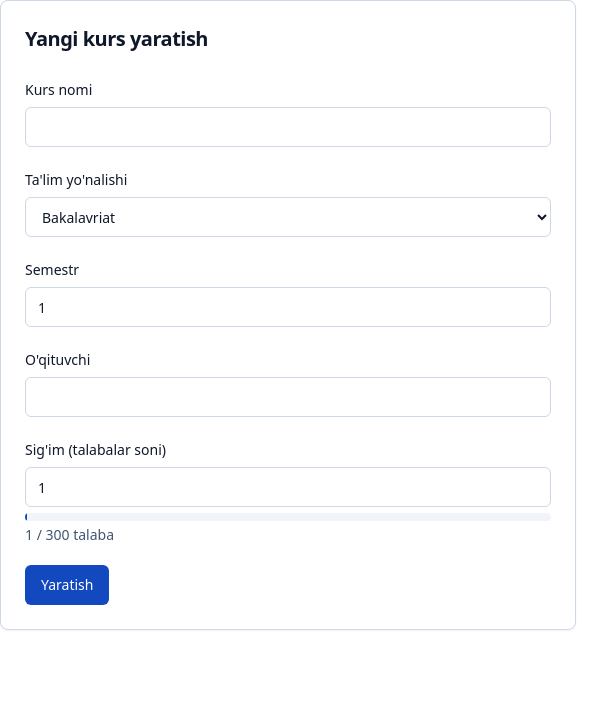
Test: CourseCreateForm › blocks submit and shows the 559 clause-20 link when BACHELOR capacity > 300 (Req 11.6)
In the field labelled "Kurs nomi": (288, 127) [25,107,551,147], type "Matematika"
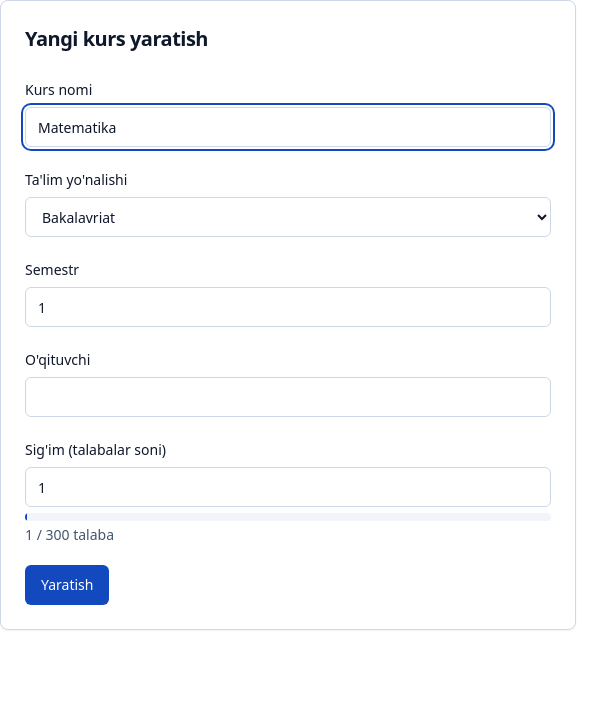
In the field labelled "O'qituvchi": (288, 397) [25,377,551,417], type "Aliyev"
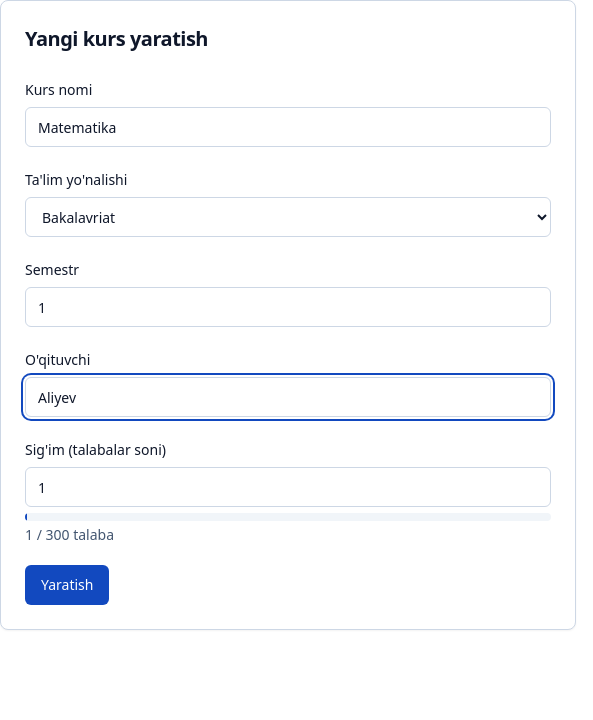
Replace the text in the number field labelled "Sig'im (talabalar soni)" with "301": (288, 487) [25,467,551,507]
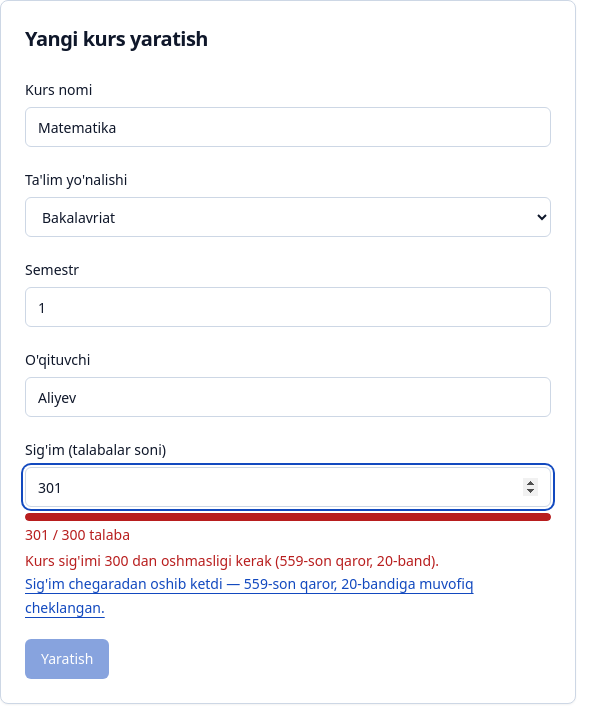
Expected: the button "Yaratish" is disabled, [25,639,110,679]
